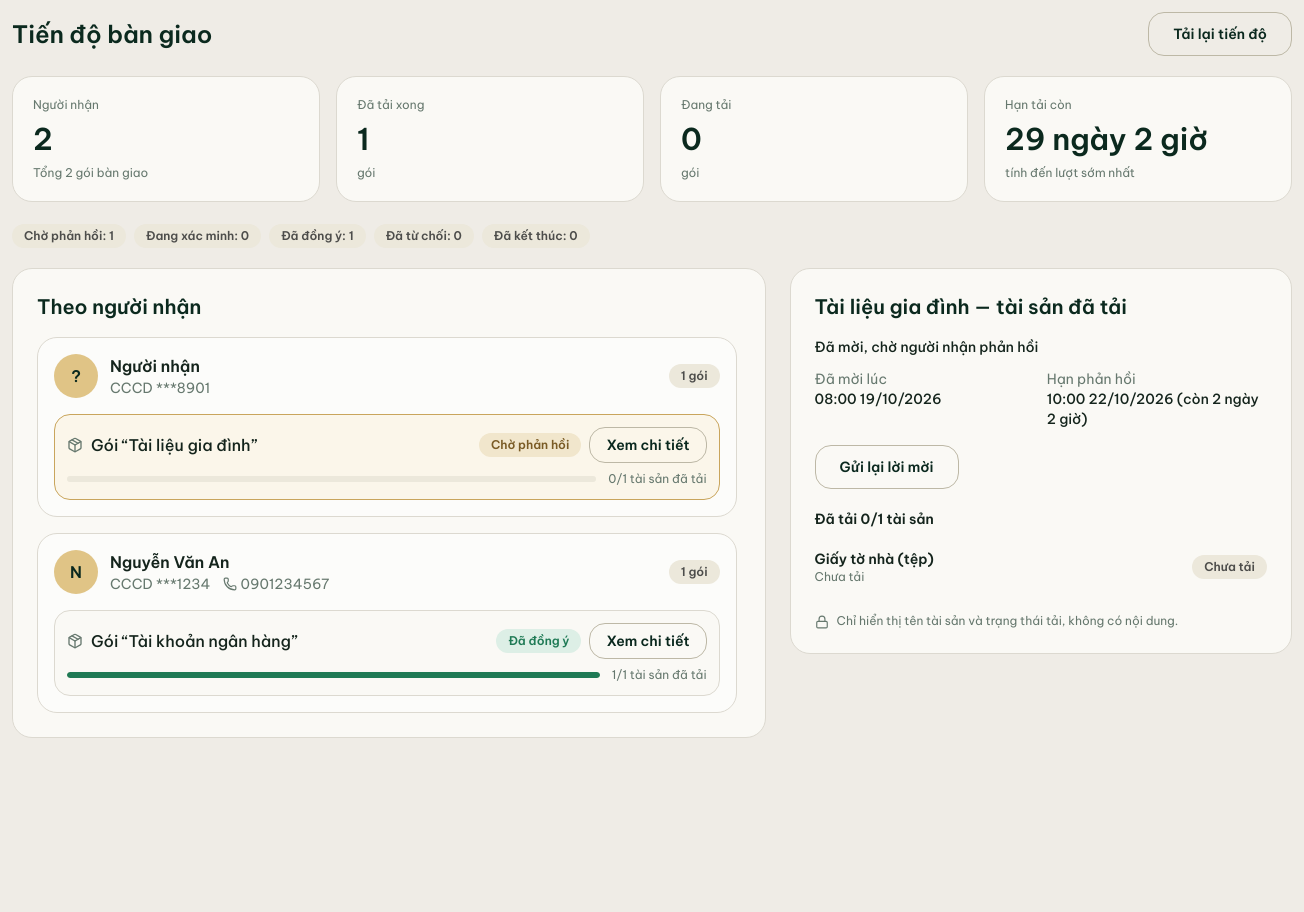
Test: shows summary, per-turn deadlines counted from serverTime and download state
The width and height of the screenshot is (1304, 912).
Expected: the heading "Theo người nhận" is shown, [37,293,201,321]
Expected: the text "Gói “Tài liệu gia đình”" is shown, [91,433,257,457]
// Chọn lượt thứ hai để xem chi tiết người nhận đã đồng ý.
Click the button "Xem chi tiết" in the row of "Tài khoản ngân hàng" at coordinates (648, 641), box [589,623,707,659]
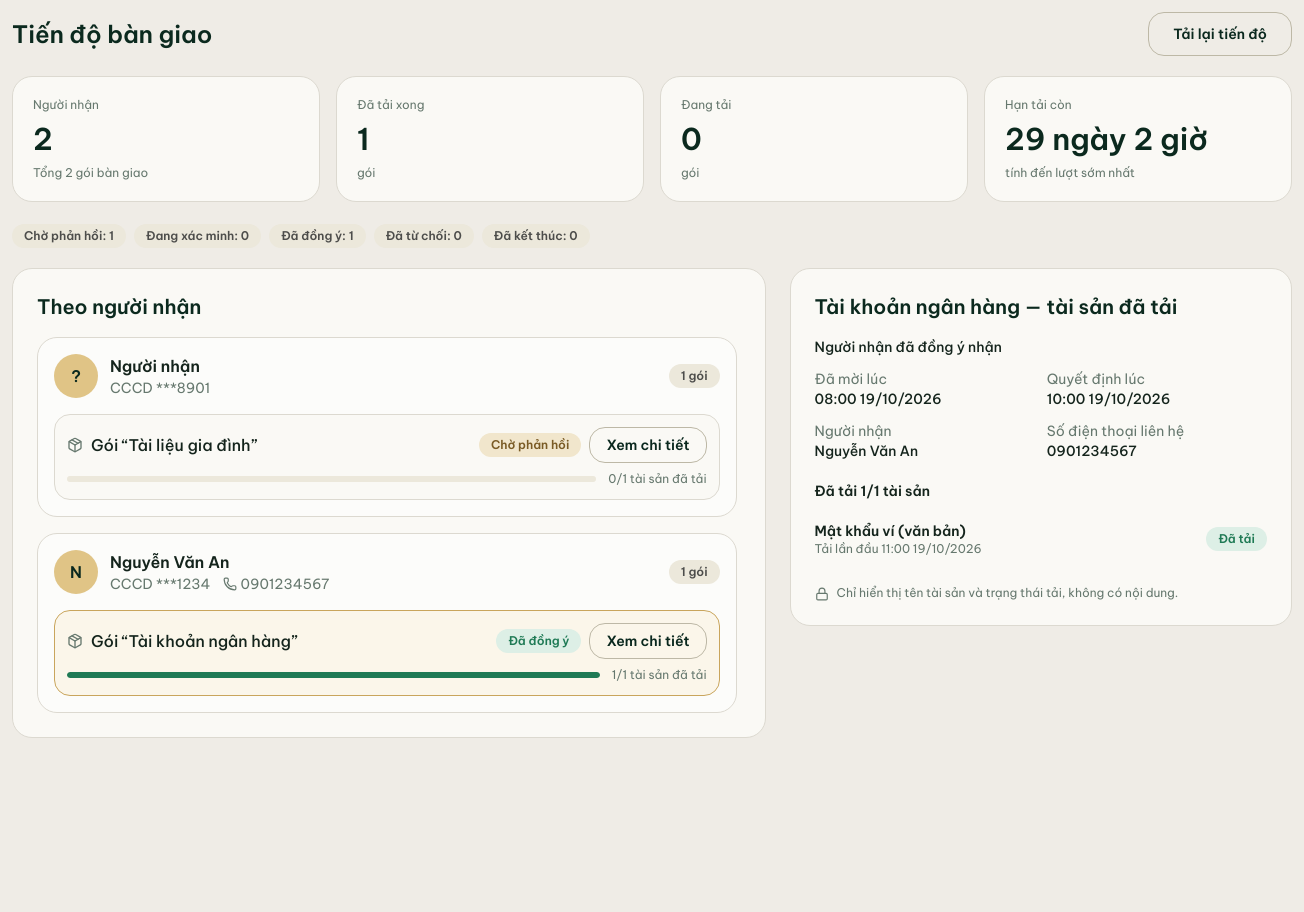
Now the text "Người nhận đã đồng ý nhận" is shown, box [815,338,1002,356]
Now the text "Đã tải 1/1 tài sản" is shown, box [815,482,930,500]
Now the text "Mật khẩu ví (văn bản)" is shown, box [815,521,982,541]
